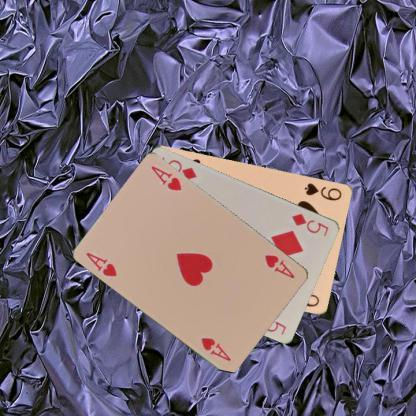5d: (289, 210, 330, 238)
9s: (302, 180, 343, 202)
Ah: (262, 252, 296, 280), (84, 250, 118, 278)
